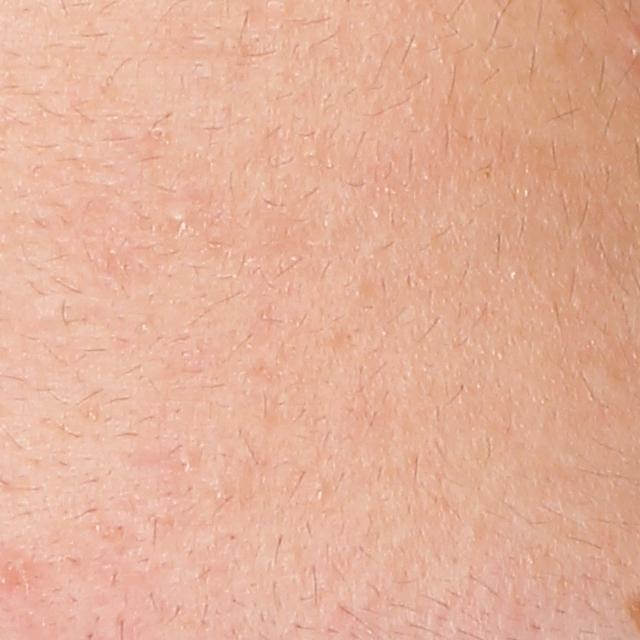comedo: (177, 446, 200, 479), (148, 125, 168, 144)
